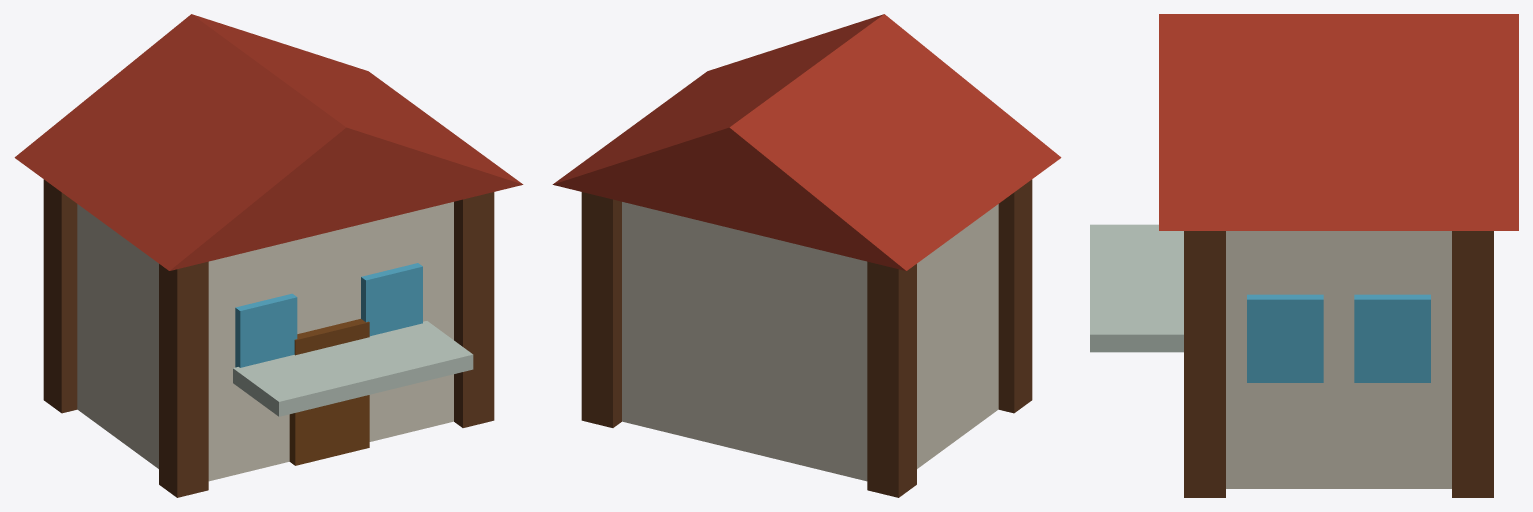
The model's file is awning_stall.glb.
3 views of the same model, side by side, from view 1: azimuth 30°, elevation 25°; view 2: azimuth 150°, elevation 25°; view 3: azimuth 270°, elevation 25° (orthographic). The views are drawn at different scales.
Visible parts, largest first — view 1: awning; view 2: awning; view 3: awning.
Part boxes in pixels (bbox=[...]): awning: bbox=[14, 14, 523, 497]; awning: bbox=[552, 14, 1061, 497]; awning: bbox=[1090, 14, 1518, 497].
Bounding box in the file's own units: 1.24 × 1.14 × 1.12.
